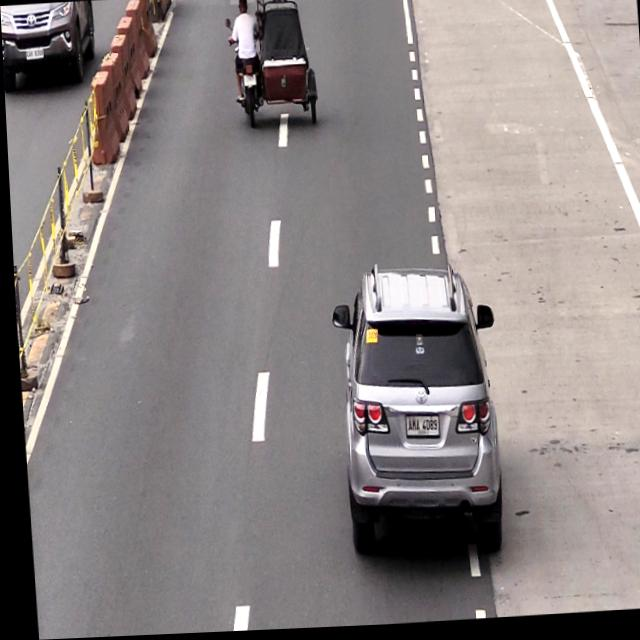Car: (336, 266, 502, 554)
License-Plate: (399, 413, 437, 445)
Tricycle: (224, 0, 316, 136)
